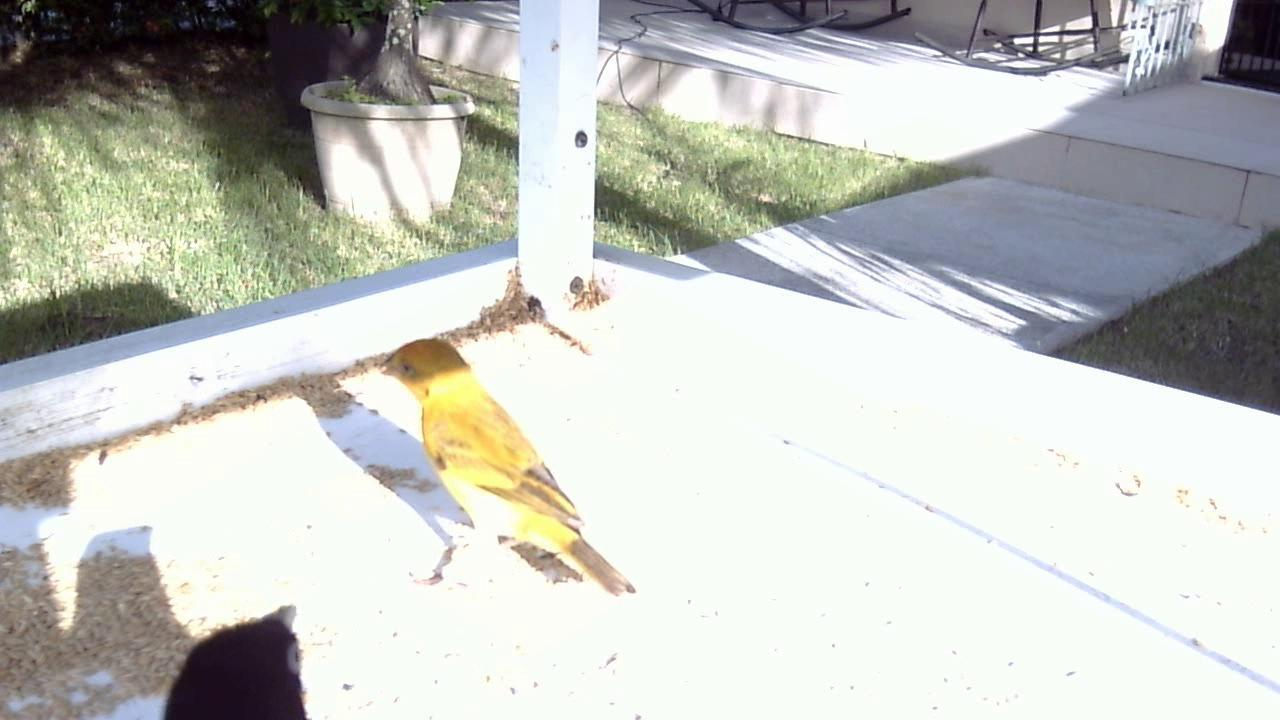canario_do_amazonas: (354, 324, 647, 609)
